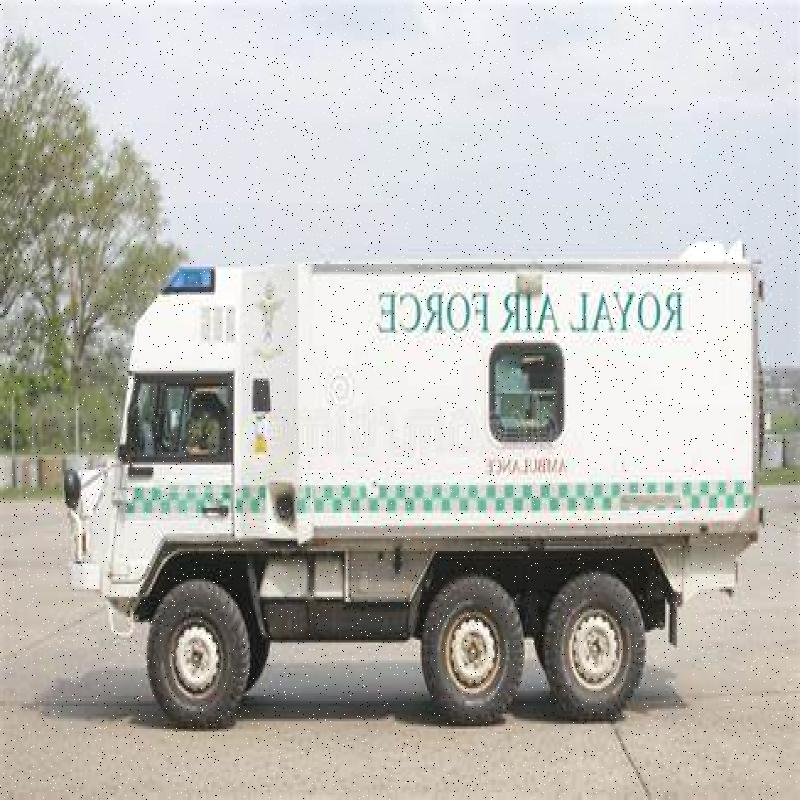AmbulanceSiren: (147, 246, 220, 309)
